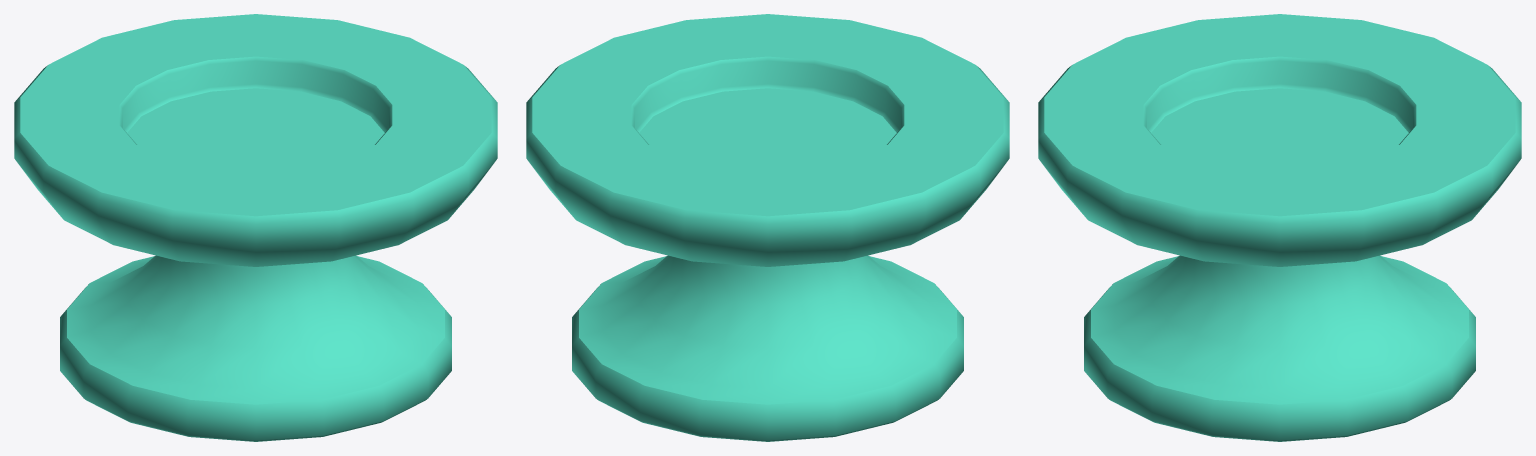
Rendered from st2_bowl_05.fbx.
3 views of the same model, side by side, from view 1: azimuth 30°, elevation 25°; view 2: azimuth 150°, elevation 25°; view 3: azimuth 270°, elevation 25° (orthographic).
Parts seen in each view (by area): view 1: stage2_bowl_05_v1; view 2: stage2_bowl_05_v1; view 3: stage2_bowl_05_v1.
Part boxes in pixels (x1=…): stage2_bowl_05_v1: x1=14, y1=14, x2=497, y2=441; stage2_bowl_05_v1: x1=526, y1=14, x2=1009, y2=441; stage2_bowl_05_v1: x1=1038, y1=14, x2=1521, y2=441.
Bounding box in the file's own units: 121 × 66.49 × 119.
